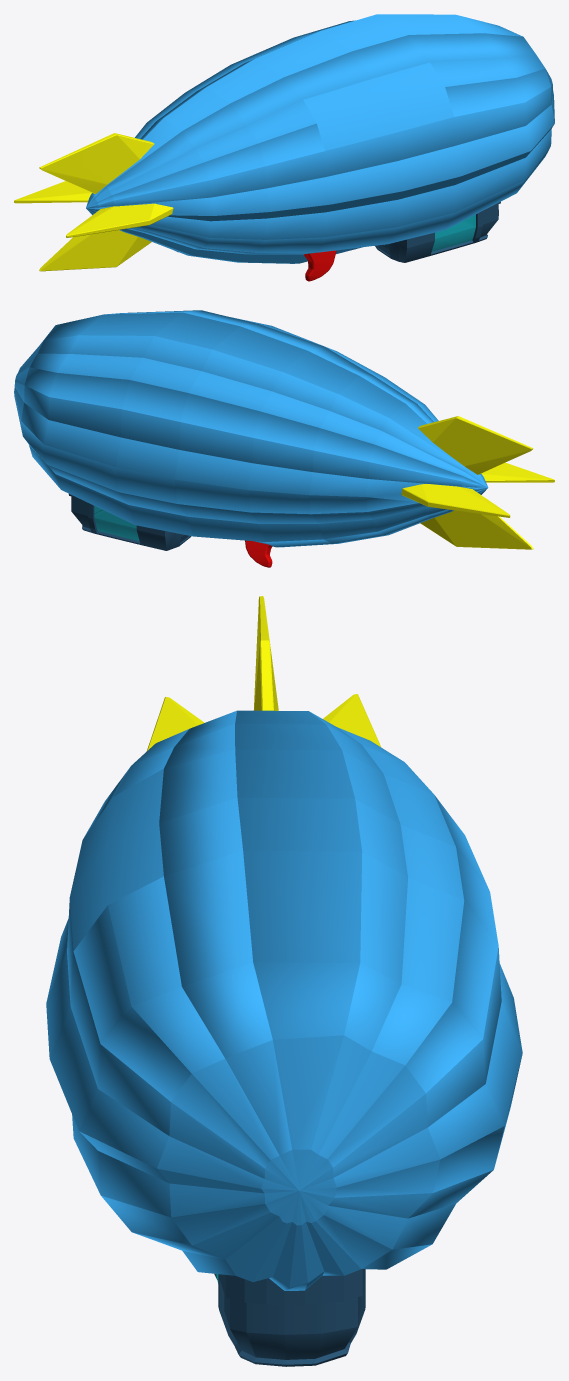
The model's file is BALLOON AIRSHIP.fbx.
3 renders of one model, top to bottom at view 1: azimuth 30°, elevation 25°; view 2: azimuth 150°, elevation 25°; view 3: azimuth 270°, elevation 25°, orthographic. The views are drawn at different scales.
Visible parts, largest first — view 1: BALOON, FAN_STAND; view 2: BALOON, FAN_STAND; view 3: BALOON.
Part boxes in pixels (left/top/right/bottom): BALOON: left=14, top=14, right=554, bottom=271; FAN_STAND: left=304, top=250, right=336, bottom=281; BALOON: left=14, top=310, right=554, bottom=550; FAN_STAND: left=245, top=540, right=272, bottom=567; BALOON: left=46, top=596, right=522, bottom=1366.
Bounding box in the file's own units: 41.66 × 17.13 × 16.94.
